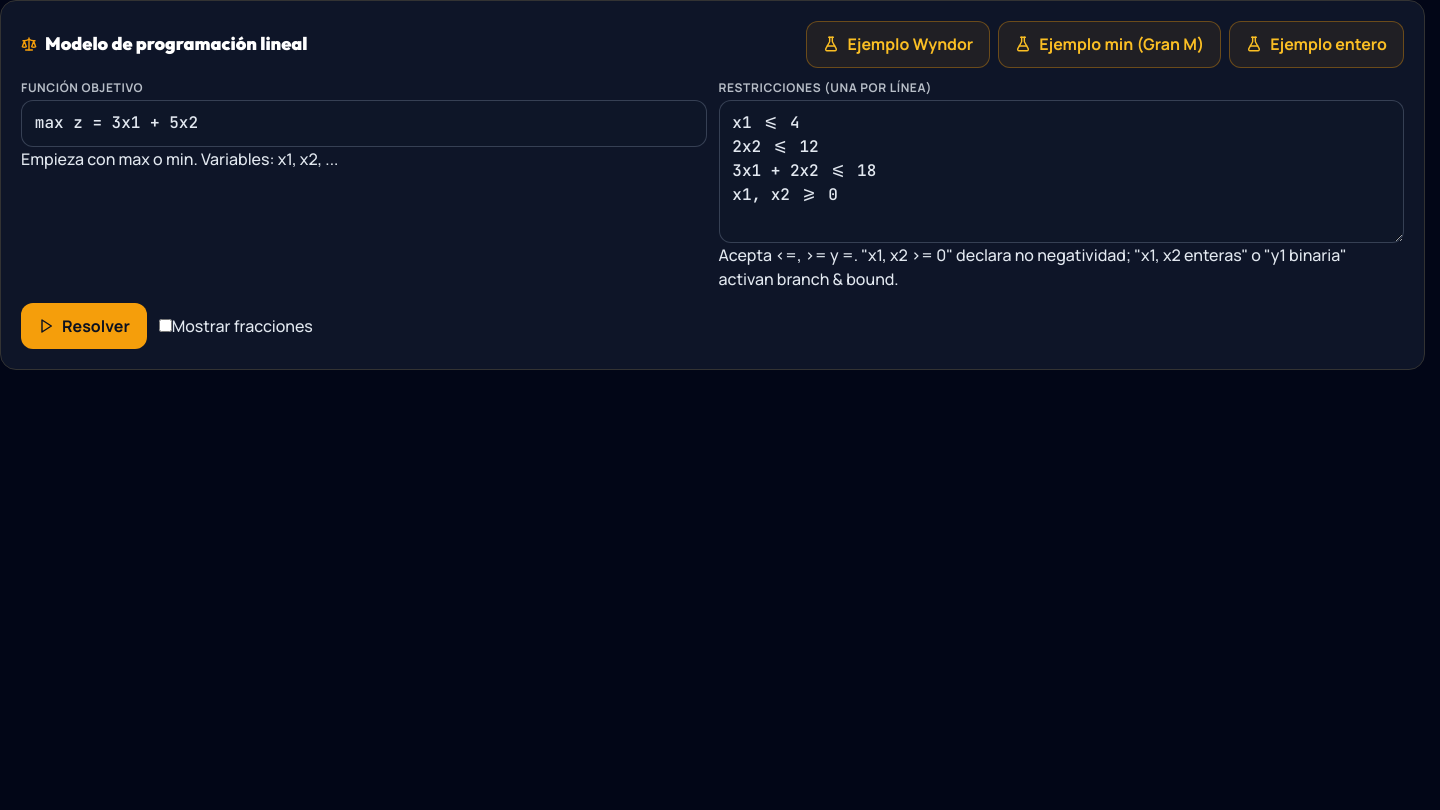
Test: PL resuelve el ejemplo inicial sin romper su vista
Click the button "Resolver": (84, 326) [21,303,147,349]
(page scrolled)
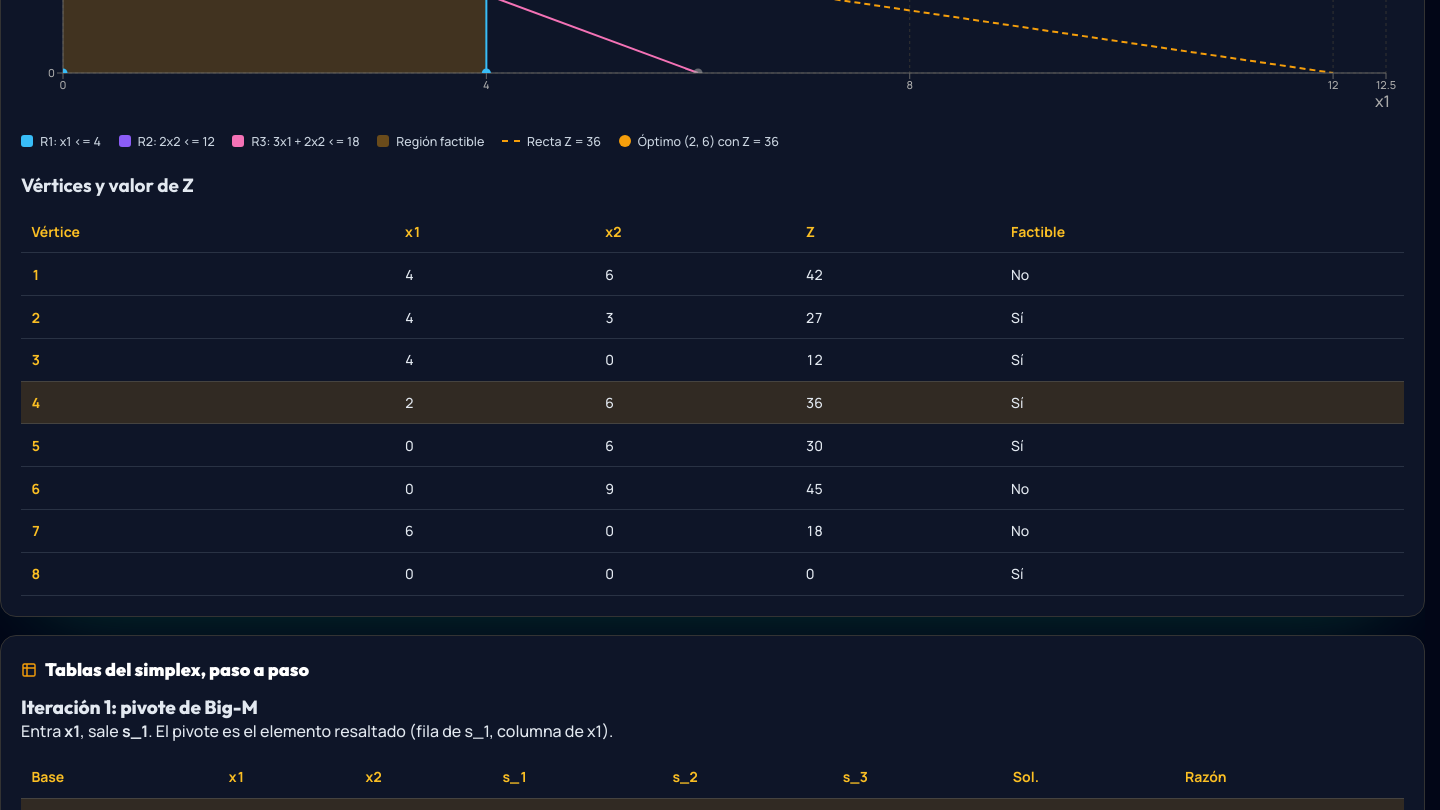
Expected: the table that starts with "Vértice" is shown, [21,210,1404,596]
Expected: the text "36" is shown, [586,133,601,150]
